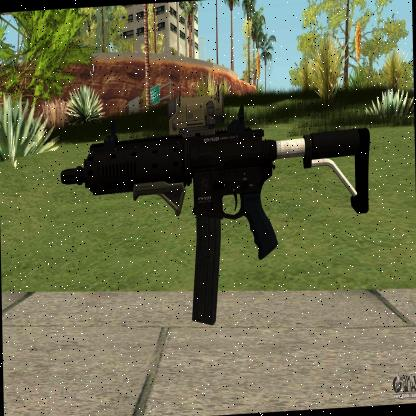rifle: (56, 78, 392, 348)
